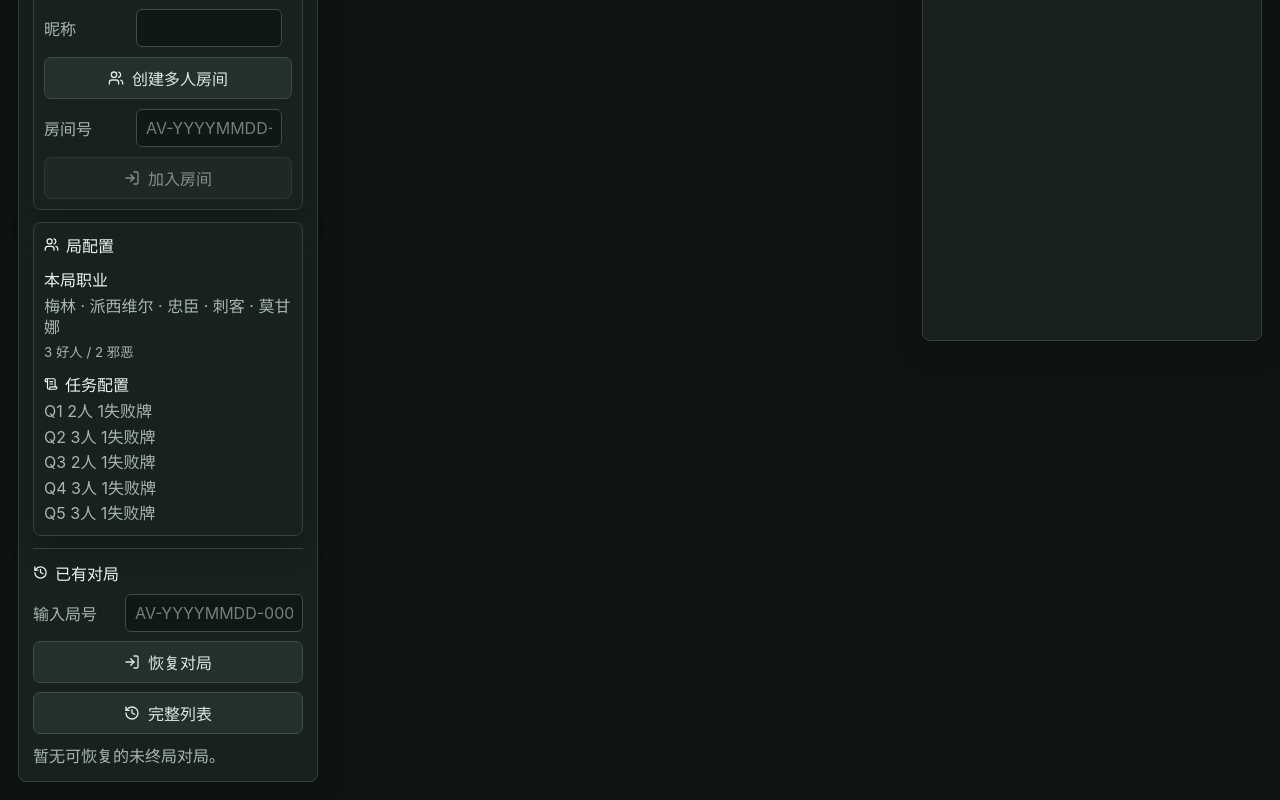
Avalon app › shows one entertaining AI epilogue line for each AI after game over
(page scrolled)
Click the button "完整列表" at [168, 713], box [33, 692, 303, 734]
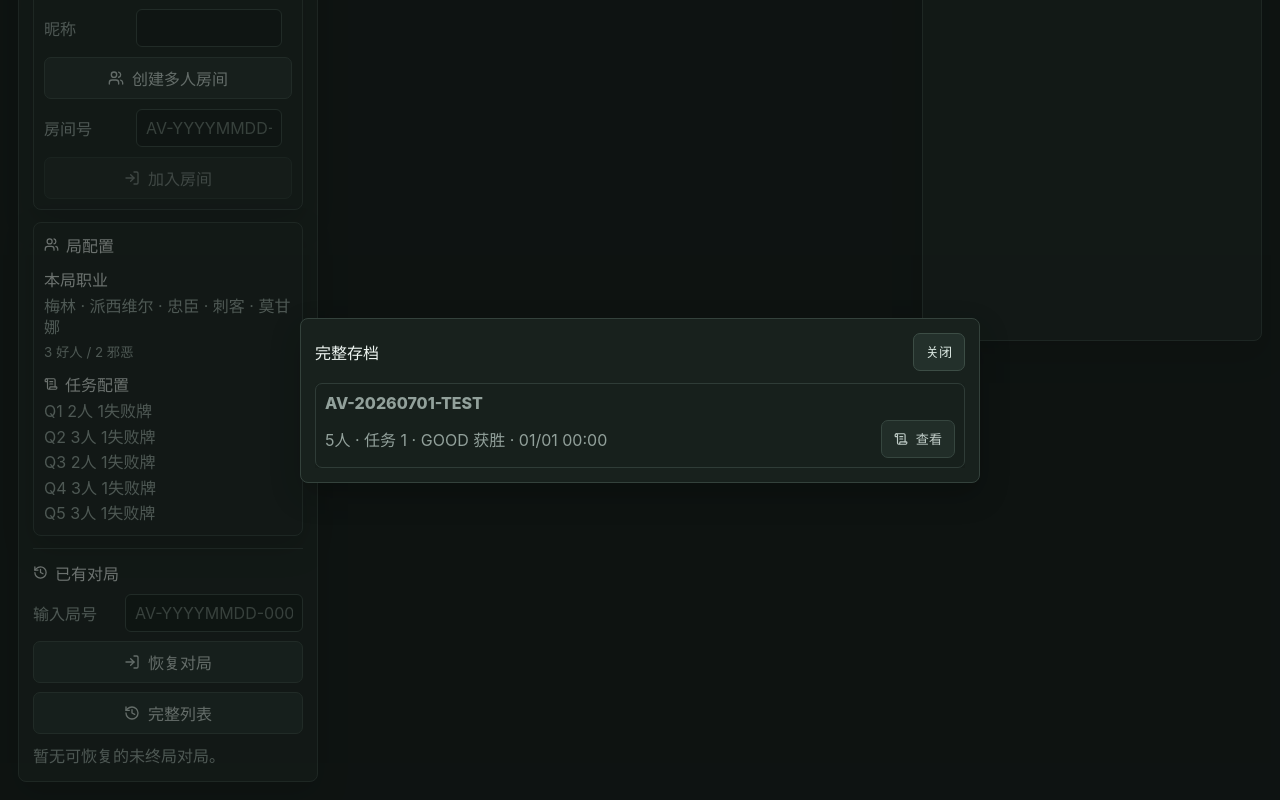
Click the button "查看" at [918, 438], box [881, 420, 955, 458]
(page scrolled)
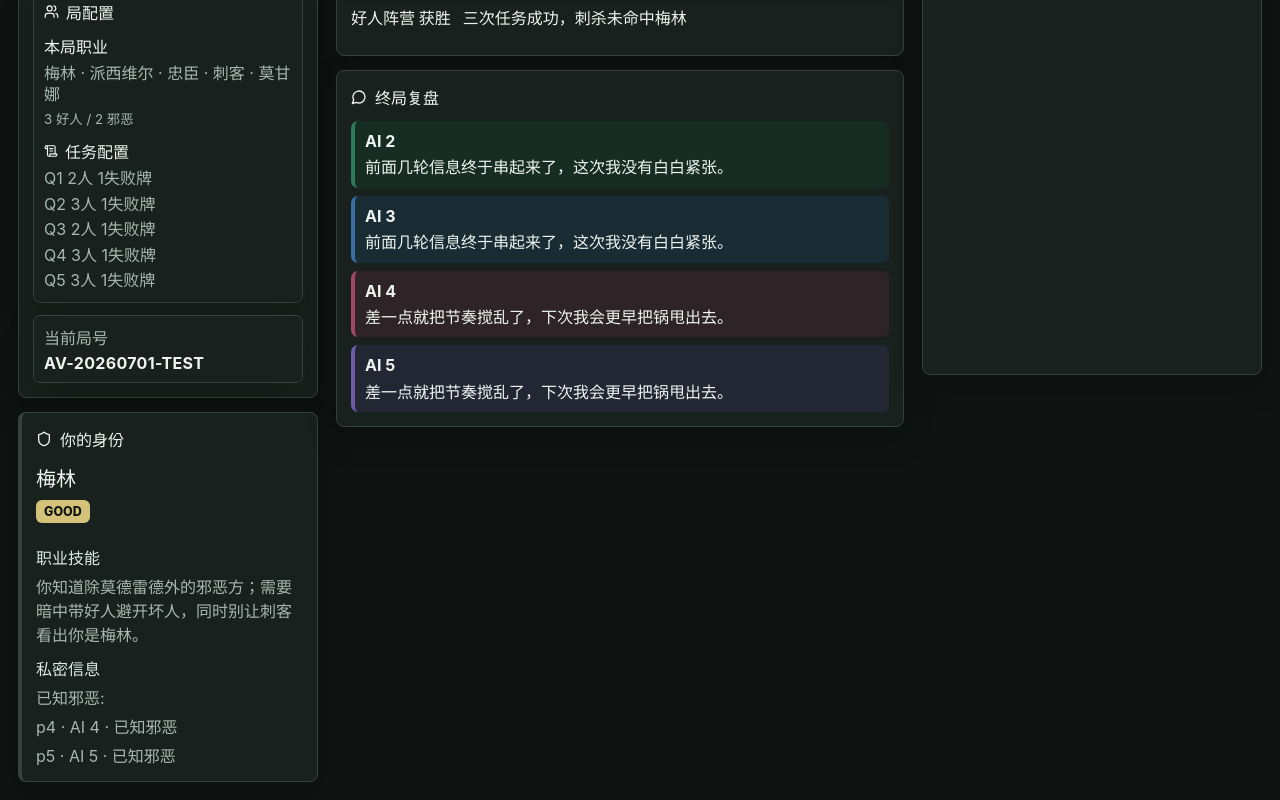
Expected: the text "终局复盘" is shown, [351, 88, 439, 108]
Expected: the text "p4 · AI 4 · 已知邪恶" is shown, [36, 717, 178, 737]
Expected: the text "p5 · AI 5 · 已知邪恶" is shown, [36, 746, 176, 766]
